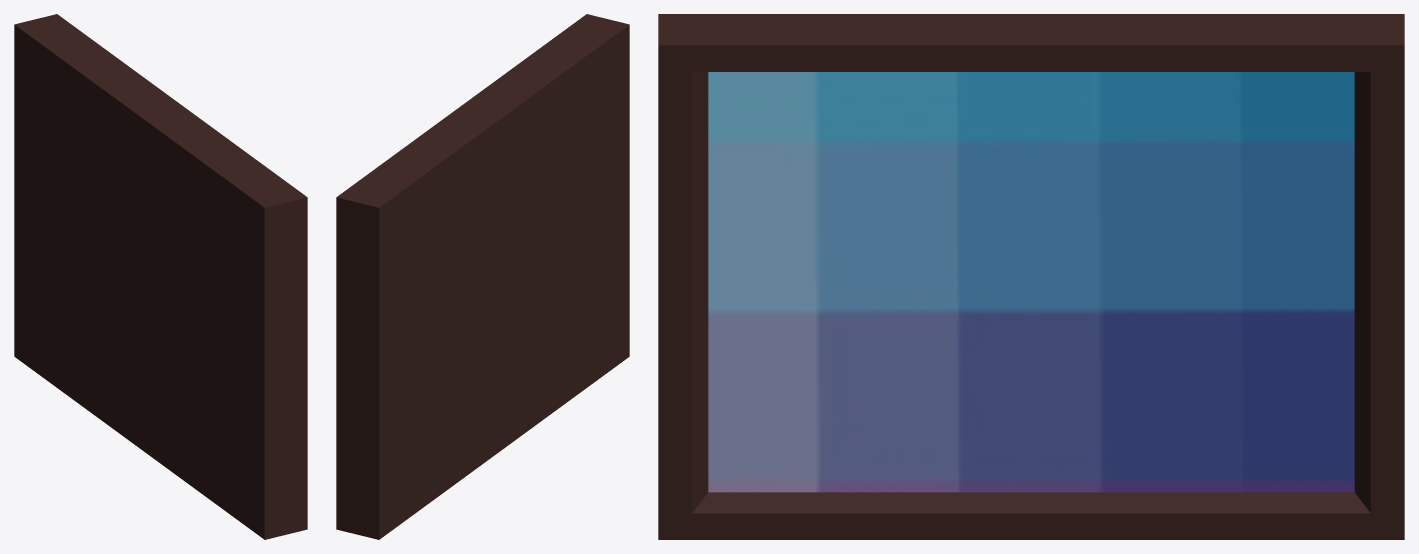
File: painting2.fbx
3 views of the same model, side by side, from view 1: azimuth 30°, elevation 25°; view 2: azimuth 150°, elevation 25°; view 3: azimuth 270°, elevation 25° (orthographic). The views are drawn at different scales.
Parts seen in each view (by area): view 1: polySurface76; view 2: polySurface76; view 3: polySurface76.
Part boxes in pixels (<box>): polySurface76: <box>14,14,307,539</box>; polySurface76: <box>336,14,629,539</box>; polySurface76: <box>658,14,1404,539</box>.
Size of the model in its own units: 0.3845 by 2.85 by 3.89.
